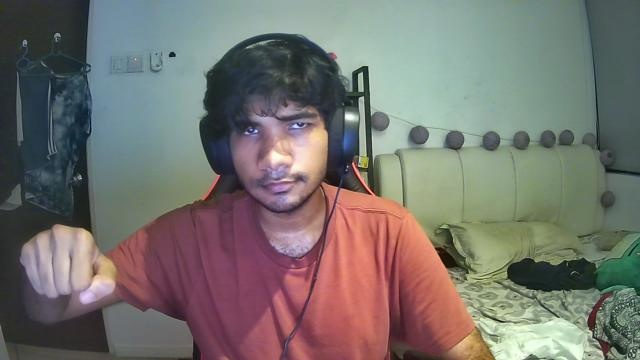Yes: (15, 218, 124, 318)
